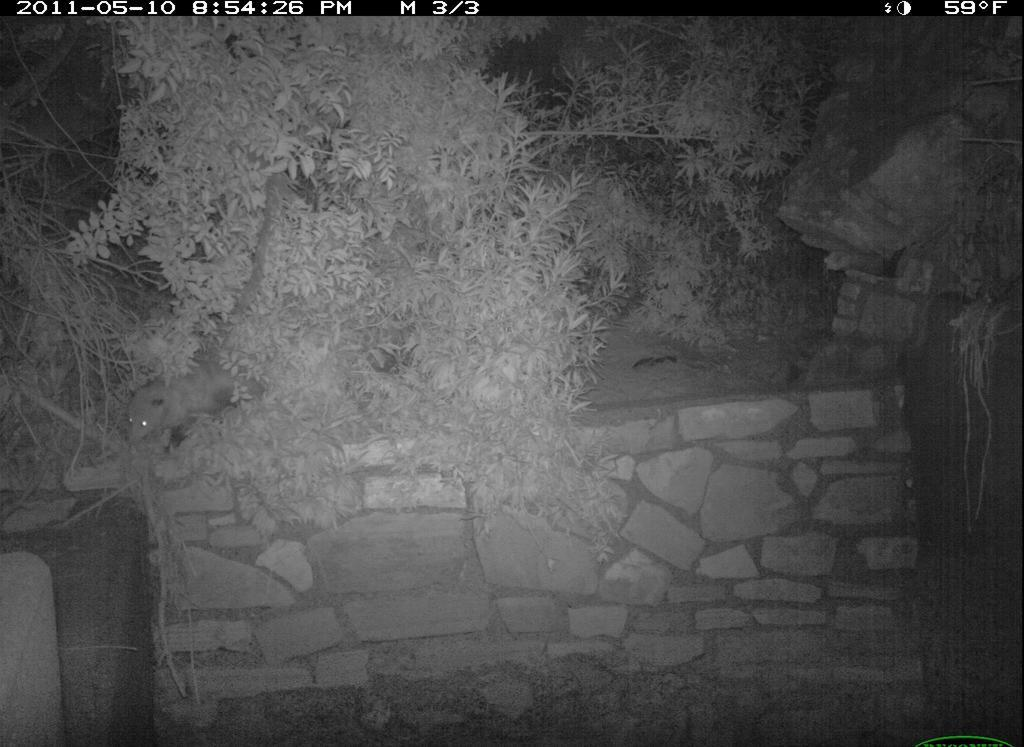opossum: (127, 349, 286, 460)
